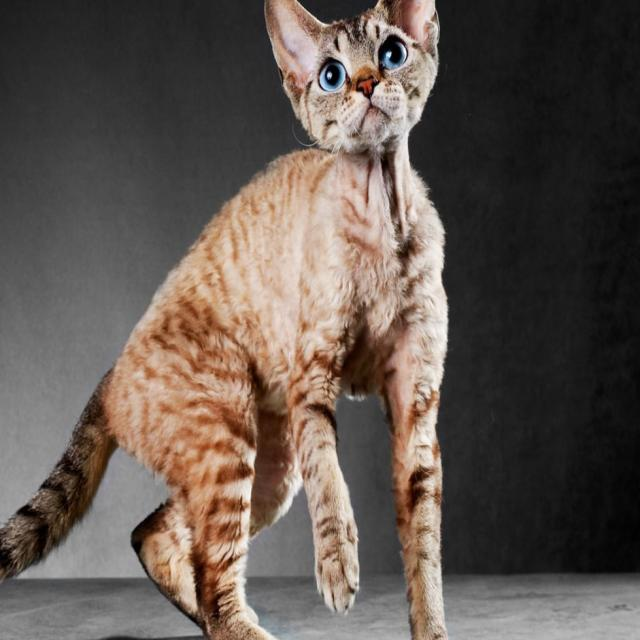Cornish Rex: (0, 0, 482, 640)
